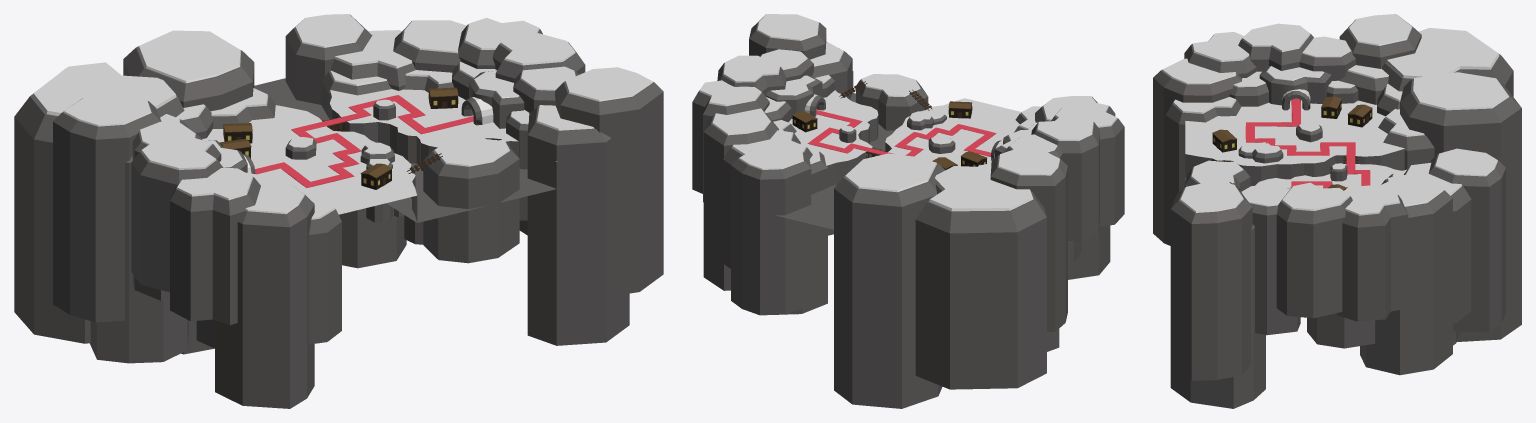
The model's file is MAP7.fbx.
3 views of the same model, side by side, from view 1: azimuth 30°, elevation 25°; view 2: azimuth 150°, elevation 25°; view 3: azimuth 270°, elevation 25° (orthographic). The views are drawn at different scales.
Parts seen in each view (by area): view 1: Map6.005, Ground, Path_Red, End; view 2: Map6.005, Ground, Path_Red; view 3: Map6.005, Ground, Path_Red, Start.
Boxes of the visible parts, bbox=[...] form: Map6.005: bbox=[14, 14, 663, 408]; Ground: bbox=[202, 89, 556, 214]; Path_Red: bbox=[255, 95, 473, 187]; End: bbox=[461, 97, 493, 125]; Map6.005: bbox=[692, 14, 1124, 408]; Ground: bbox=[788, 90, 1020, 165]; Path_Red: bbox=[807, 110, 996, 156]; Map6.005: bbox=[1153, 14, 1521, 408]; Ground: bbox=[1185, 100, 1404, 188]; Path_Red: bbox=[1245, 98, 1370, 188]; Start: bbox=[1282, 89, 1310, 110].
Bounding box in the file's own units: 16728 × 8979 × 12631.
